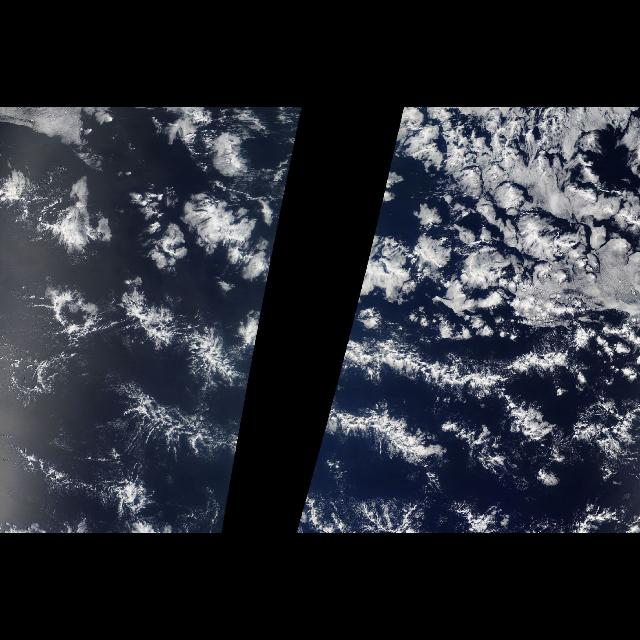Fish: (295, 218, 639, 534), (38, 286, 268, 534)
Flower: (391, 178, 619, 348), (134, 165, 266, 303)
